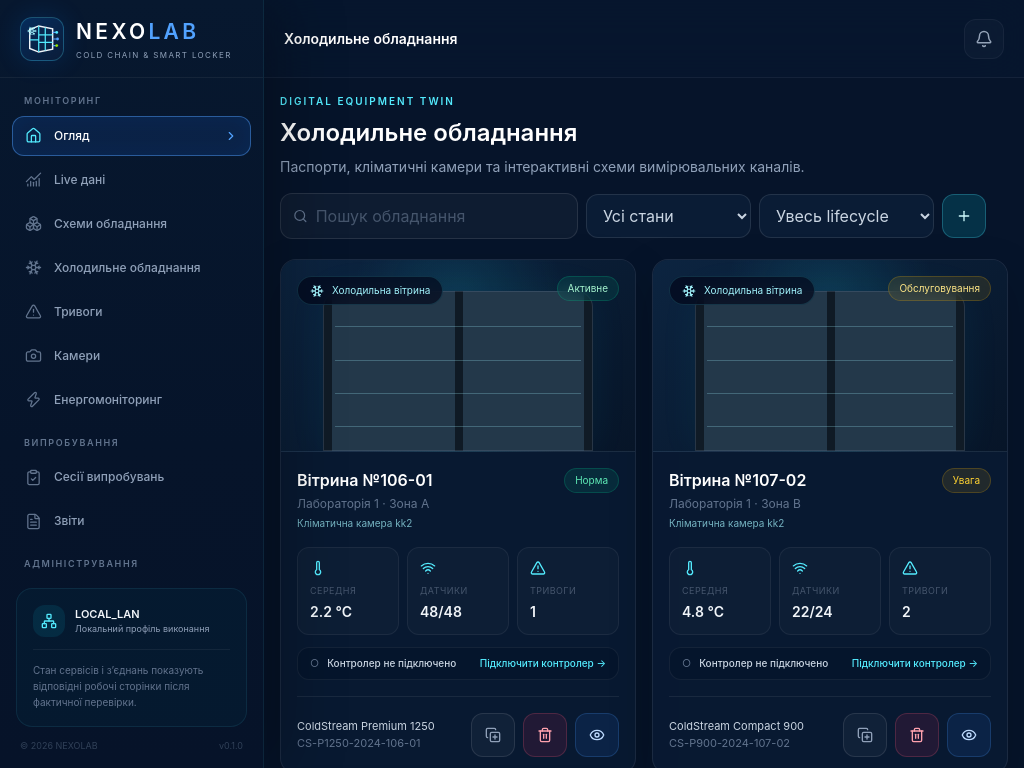
Test: RefrigerationCatalogScreen › filters equipment by search text
Expected: the heading "Вітрина №106-01" is shown, [297,468,432,492]
In the field with placeholder "Пошук обладнання": coordinates (440, 216) [316,204,565,228], type "Compact 900"
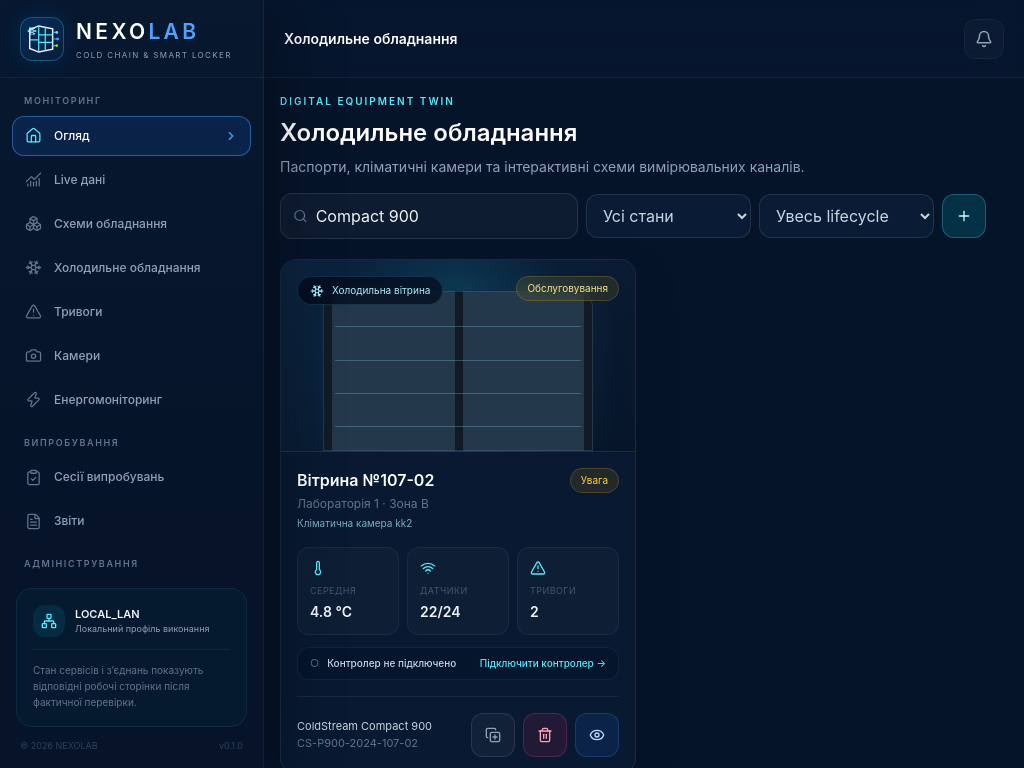
Expected: the heading "Вітрина №107-02" is shown, [297,468,434,492]
Expected: the heading "Вітрина №106-01" is gone
